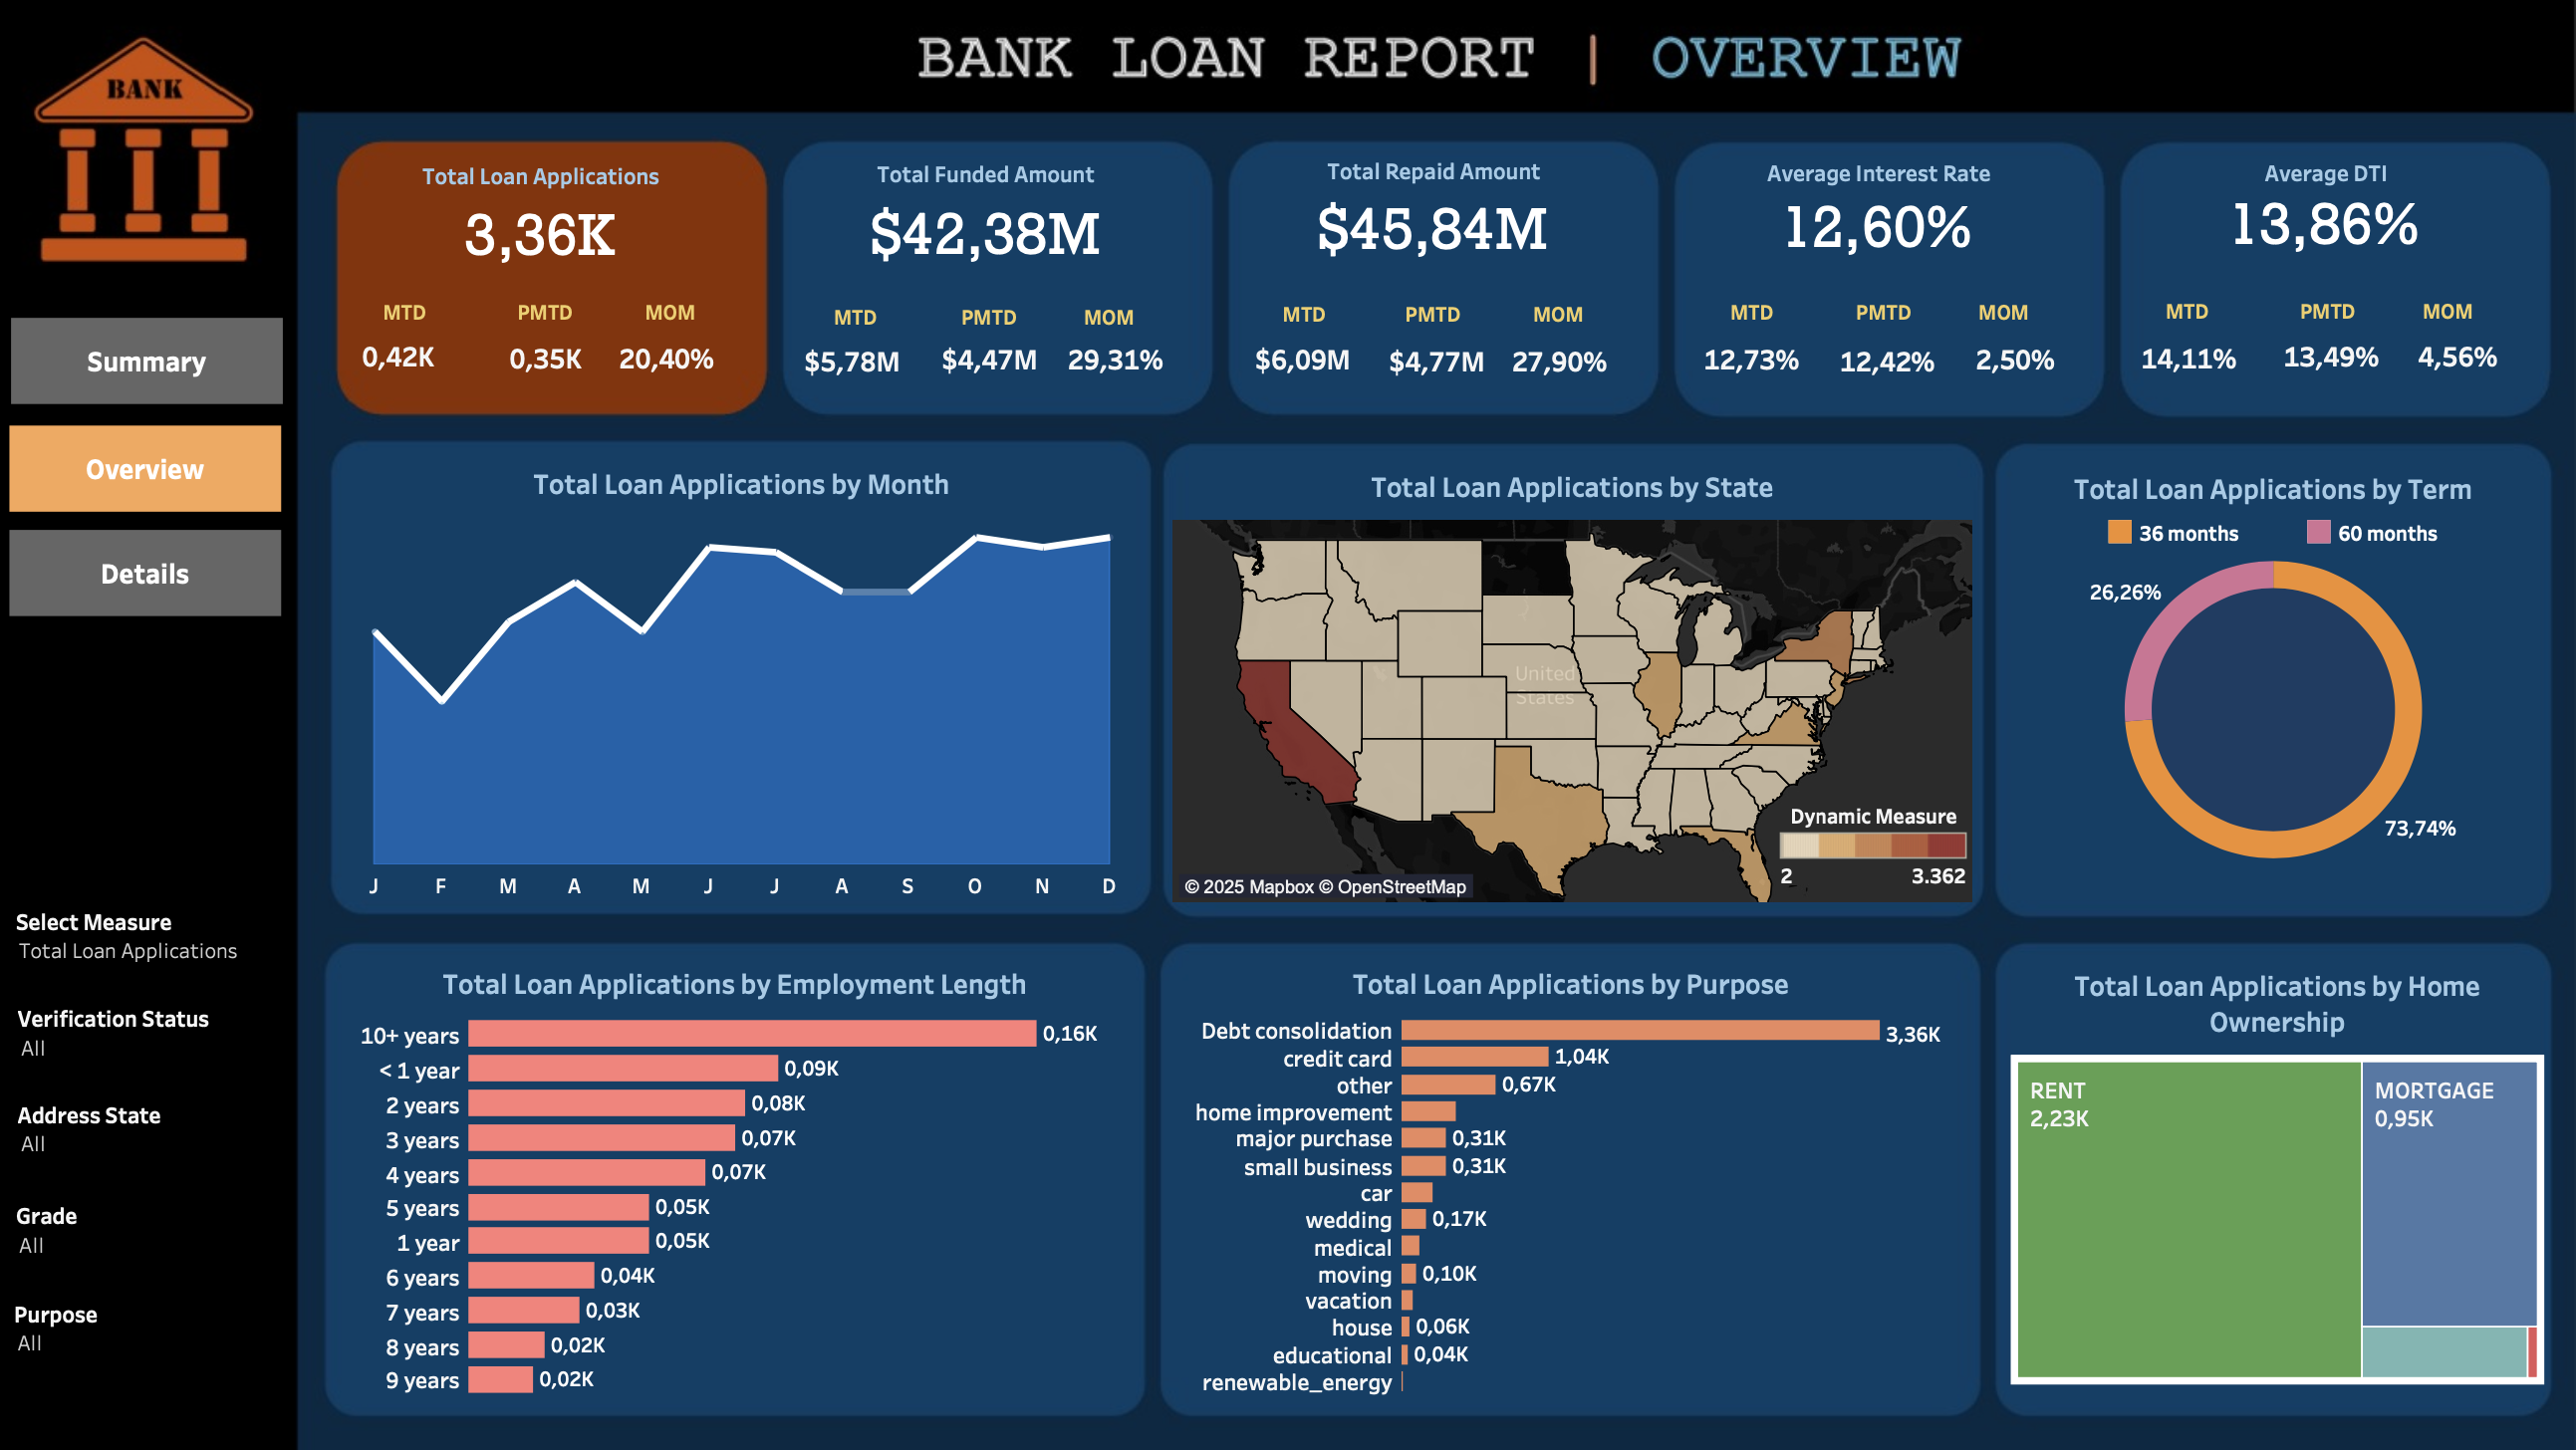

The dashboard page shown, as its layout file describes it:
{"tool":"tableau","page":{"name":"OVERVIEW","canvas":[1600,900],"ordinal":1},"visuals":[{"type":"image","param":"/Users/arafathjazeeb/Library/CloudStorage/OneDrive-UniversityofPisa/Data Analyst","box":[8,8,1584,884]},{"type":"worksheet","title":"TRA","mark":"Automatic","box":[770,100,238,81]},{"type":"worksheet","title":"AIR","mark":"Automatic","box":[1037,101,241,77]},{"type":"worksheet","title":"DTI","mark":"Automatic","box":[1307,101,241,72]},{"type":"worksheet","title":"TFA","mark":"Automatic","box":[498,102,241,83]},{"type":"worksheet","title":"TLA","mark":"Automatic","box":[229,103,242,82]},{"type":"text","box":[1328,184,33,30]},{"type":"text","box":[1409,184,39,30]},{"type":"text","box":[1483,184,39,30]},{"type":"text","box":[252,185,33,30]},{"type":"text","box":[333,185,39,30]},{"type":"text","box":[410,185,39,30]},{"type":"text","box":[1065,185,33,30]},{"type":"text","box":[1141,185,39,30]},{"type":"text","box":[1215,185,39,30]},{"type":"text","box":[795,186,33,30]},{"type":"text","box":[869,186,39,30]},{"type":"text","box":[946,186,39,30]},{"type":"text","box":[524,188,33,30]},{"type":"text","box":[601,188,39,30]},{"type":"text","box":[675,188,39,30]},{"type":"worksheet","title":"MTD_AIR","mark":"Automatic","box":[1043,203,77,53]},{"type":"dashboard-object","box":[30,204,164,52]},{"type":"worksheet","title":"PMTD_TLA","mark":"Automatic","box":[310,207,86,43]},{"type":"worksheet","title":"MTD_TFA","mark":"Automatic","box":[501,207,75,46]},{"type":"worksheet","title":"MTD_TRA","mark":"Automatic","box":[768,208,84,43]},{"type":"worksheet","title":"PMTD_AIR","mark":"Automatic","box":[1121,208,84,44]},{"type":"worksheet","title":"PMTD_DTI","mark":"Automatic","box":[1390,208,82,39]},{"type":"worksheet","title":"MOM_TFA","mark":"Automatic","box":[654,209,87,41]},{"type":"worksheet","title":"MTD_DTI","mark":"Automatic","box":[1309,209,73,39]},{"type":"worksheet","title":"PMTD_TFA","mark":"Automatic","box":[581,210,81,39]},{"type":"worksheet","title":"MOM_DTI","mark":"Automatic","box":[1472,210,70,34]},{"type":"worksheet","title":"MTD_TLA","mark":"Automatic","box":[229,211,71,33]},{"type":"worksheet","title":"PMTD_TRA","mark":"Automatic","box":[853,211,76,38]},{"type":"worksheet","title":"MOM_TRA","mark":"Automatic","box":[926,211,79,38]},{"type":"worksheet","title":"MOM_AIR","mark":"Automatic","box":[1197,211,86,36]},{"type":"worksheet","title":"MOM_TLA","mark":"Automatic","box":[392,212,68,32]},{"type":"dashboard-object","box":[29,269,164,52]},{"type":"worksheet","title":"Month","mark":"Area","rows":["Calculation_5259571079074824265","Calculation_5259571079074824265"],"cols":["issue_date"],"box":[229,287,484,268]},{"type":"worksheet","title":"State","mark":"Multipolygon","box":[731,289,483,268]},{"type":"worksheet","title":"Term","mark":"Pie","rows":["Calculation_1125688833947185153","Calculation_1125688833947185153"],"box":[1229,290,333,264]},{"type":"legend","title":"Term","param":"[federated.19laxnm011tjax19or1he1sgg5cj].[none:term:nk]","box":[1293,323,280,21]},{"type":"dashboard-object","box":[29,332,164,52]},{"type":"legend","title":"State","param":"[federated.19laxnm011tjax19or1he1sgg5cj].[usr:Calculation_5259571079074824265:qk","box":[1094,492,121,60]},{"type":"parameter","param":"[Parameters].[Parameter 1]","box":[33,558,160,44]},{"type":"worksheet","title":"Employee Length","mark":"Bar","rows":["emp_length"],"cols":["Calculation_5259571079074824265"],"box":[226,589,482,267]},{"type":"worksheet","title":"Purpose","mark":"Automatic","rows":["purpose"],"cols":["Calculation_5259571079074824265"],"box":[729,589,485,265]},{"type":"worksheet","title":"Home Ownership","mark":"Automatic","box":[1237,590,322,271]},{"type":"filter","title":"AIR","param":"[federated.19laxnm011tjax19or1he1sgg5cj].[none:verification_status:nk]","box":[34,617,160,58]},{"type":"filter","title":"AIR","param":"[federated.19laxnm011tjax19or1he1sgg5cj].[none:address_state:nk]","box":[34,675,160,54]},{"type":"filter","title":"AIR","param":"[federated.19laxnm011tjax19or1he1sgg5cj].[none:grade:nk]","box":[33,736,160,49]},{"type":"filter","title":"AIR","param":"[federated.19laxnm011tjax19or1he1sgg5cj].[none:purpose:nk]","box":[32,795,160,60]}]}

Visuals, with their boxes in screenshot pixels (x1, y1, x2, y2), scaled from the page's 1600x900 canvas onto the 2576x1450 screenshot:
image: box=[13, 13, 2563, 1437]
"TRA" worksheet: box=[1240, 161, 1623, 292]
"AIR" worksheet: box=[1670, 162, 2058, 287]
"DTI" worksheet: box=[2104, 162, 2492, 279]
"TFA" worksheet: box=[802, 164, 1189, 298]
"TLA" worksheet: box=[369, 166, 758, 298]
text: box=[2138, 297, 2191, 345]
text: box=[2268, 297, 2331, 345]
text: box=[2388, 297, 2450, 345]
text: box=[405, 298, 459, 347]
text: box=[536, 298, 599, 347]
text: box=[660, 298, 723, 347]
text: box=[1714, 298, 1768, 347]
text: box=[1837, 298, 1900, 347]
text: box=[1956, 298, 2019, 347]
text: box=[1280, 300, 1333, 348]
text: box=[1400, 300, 1462, 348]
text: box=[1523, 300, 1586, 348]
text: box=[844, 303, 897, 352]
text: box=[967, 303, 1030, 352]
text: box=[1087, 303, 1150, 352]
"MTD_AIR" worksheet: box=[1679, 327, 1803, 412]
dashboard-object: box=[48, 329, 313, 412]
"PMTD_TLA" worksheet: box=[499, 334, 638, 402]
"MTD_TFA" worksheet: box=[807, 334, 927, 407]
"MTD_TRA" worksheet: box=[1236, 335, 1372, 404]
"PMTD_AIR" worksheet: box=[1805, 335, 1940, 406]
"PMTD_DTI" worksheet: box=[2238, 335, 2370, 398]
"MOM_TFA" worksheet: box=[1053, 337, 1193, 402]
"MTD_DTI" worksheet: box=[2108, 337, 2225, 399]
"PMTD_TFA" worksheet: box=[935, 339, 1066, 401]
"MOM_DTI" worksheet: box=[2370, 339, 2482, 393]
"MTD_TLA" worksheet: box=[369, 340, 483, 393]
"PMTD_TRA" worksheet: box=[1374, 340, 1495, 401]
"MOM_TRA" worksheet: box=[1491, 340, 1618, 401]
"MOM_AIR" worksheet: box=[1928, 340, 2066, 398]
"MOM_TLA" worksheet: box=[632, 342, 740, 393]
dashboard-object: box=[47, 433, 311, 517]
"Month" worksheet (Area marks): box=[369, 462, 1148, 894]
"State" worksheet (Multipolygon marks): box=[1176, 466, 1954, 897]
"Term" worksheet (Pie marks): box=[1978, 467, 2515, 892]
"Term" legend: box=[2082, 521, 2532, 555]
dashboard-object: box=[47, 535, 311, 618]
"State" legend: box=[1761, 793, 1956, 889]
parameter: box=[53, 899, 311, 970]
"Employee Length" worksheet (Bar marks): box=[364, 949, 1140, 1379]
"Purpose" worksheet: box=[1173, 949, 1954, 1376]
"Home Ownership" worksheet: box=[1991, 950, 2510, 1387]
"AIR" filter: box=[55, 994, 313, 1087]
"AIR" filter: box=[55, 1087, 313, 1174]
"AIR" filter: box=[53, 1186, 311, 1265]
"AIR" filter: box=[52, 1281, 309, 1377]
